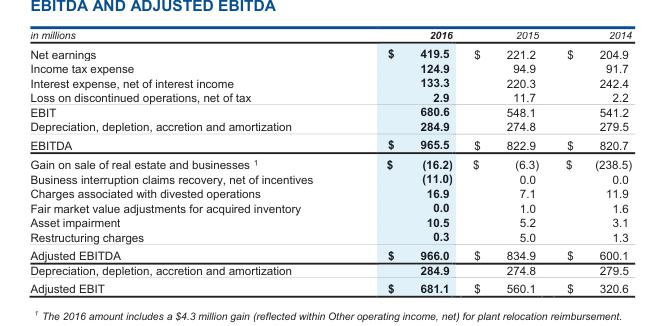table: (29, 29, 631, 294)
table column: (29, 29, 349, 294), (349, 29, 461, 294), (461, 29, 551, 294), (551, 29, 631, 294)
table column header: (29, 29, 631, 43)
table row: (29, 135, 631, 154), (29, 43, 631, 60), (29, 118, 631, 135), (29, 154, 631, 171), (29, 245, 631, 262), (29, 262, 631, 279), (29, 229, 631, 245), (29, 60, 631, 75), (29, 89, 631, 104), (29, 185, 631, 200), (29, 214, 631, 229), (29, 279, 631, 294), (29, 29, 631, 43), (29, 75, 631, 89), (29, 104, 631, 118), (29, 171, 631, 185), (29, 200, 631, 214)
